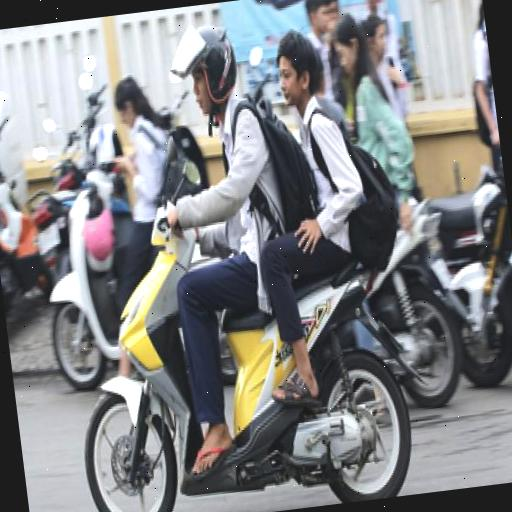helmet: (32, 11, 337, 512)
